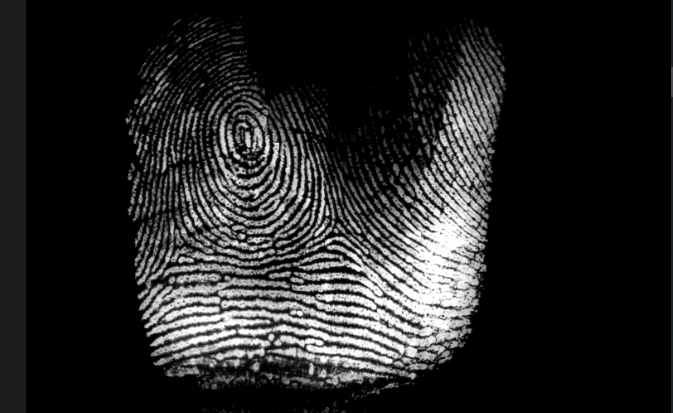deltas: (312, 206, 362, 255), (159, 216, 204, 267)
nucleo: (215, 104, 264, 154)
